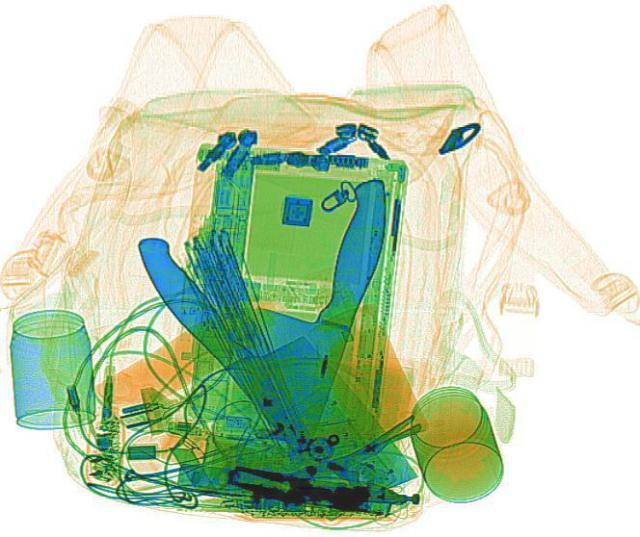Knife: (122, 206, 418, 515), (194, 161, 400, 500)
